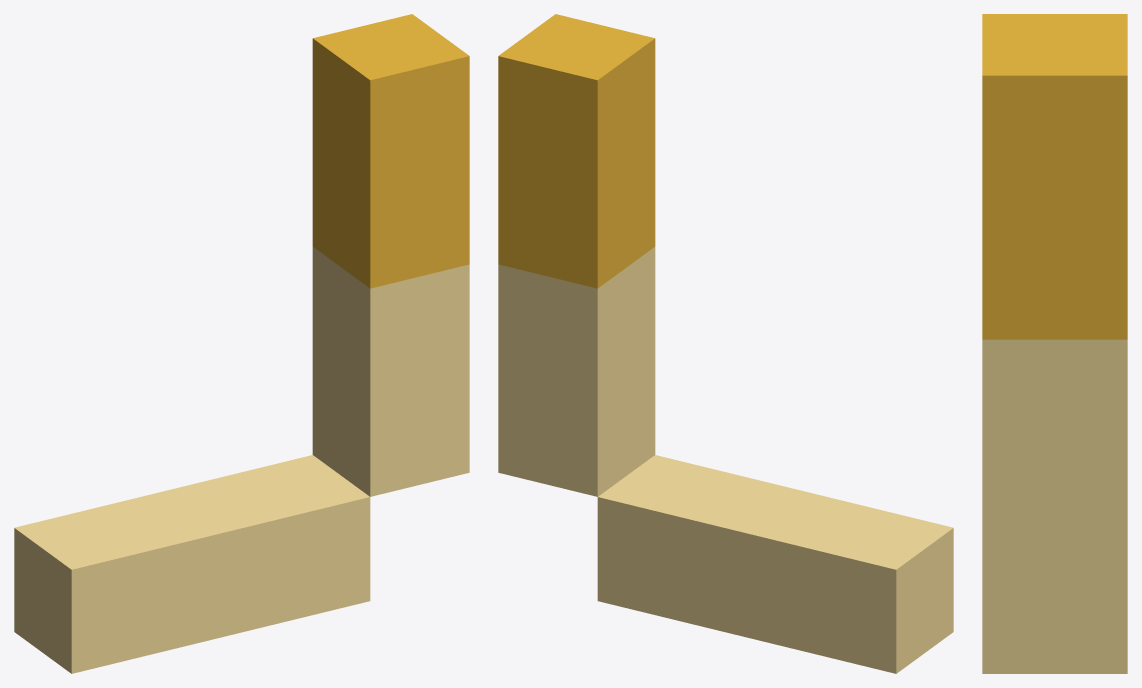
File: human-14-right_hand_attack.obj
3 renders of one model, left to right at view 1: azimuth 30°, elevation 25°; view 2: azimuth 150°, elevation 25°; view 3: azimuth 270°, elevation 25°, orthographic. The views are drawn at different scales.
Visible parts, largest first — view 1: right_hand_attack; view 2: right_hand_attack; view 3: right_hand_attack.
Boxes of the visible parts, x1,y1,x2,y2 form: right_hand_attack: (14, 14, 469, 673); right_hand_attack: (498, 14, 953, 673); right_hand_attack: (982, 14, 1127, 673).
Bounding box in the file's own units: 0.4 × 0.5 × 0.1.
1 material, 1 textured.
